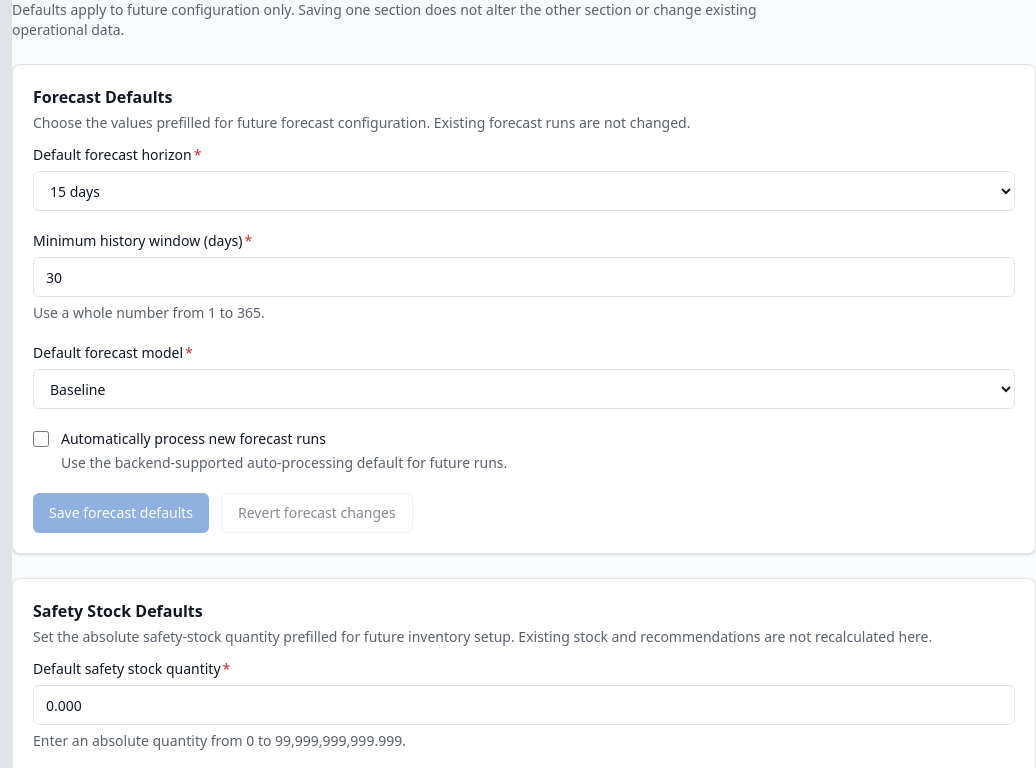
SettingsView › reverts dirty values to the latest loaded category without saving
Step 1. Replace the text in the field labelled "Default safety stock quantity*" with "12.500" → (524, 705), box [33,685,1015,725]
(page scrolled)
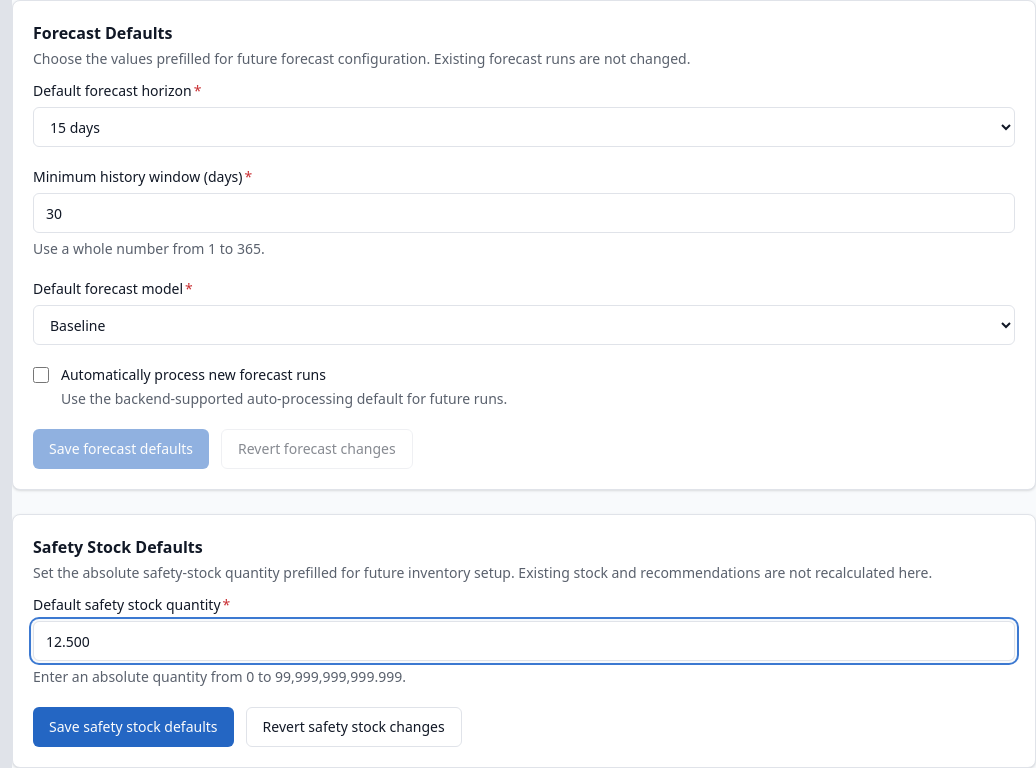
Now the button "Revert safety stock changes" is enabled
Step 2. Click the button "Revert safety stock changes" → (354, 727), box [246,707,462,747]
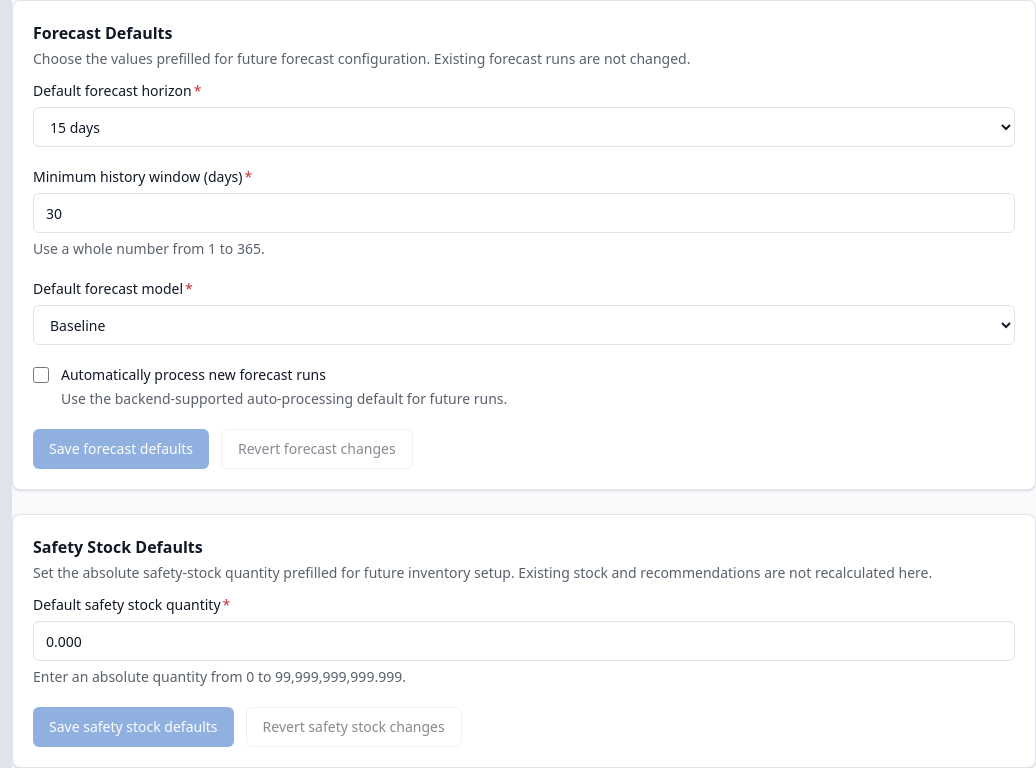
Now the field labelled "Default safety stock quantity*" holds "0.000", box [33,621,1015,661]
Now the button "Save safety stock defaults" is disabled, box [33,707,234,747]
